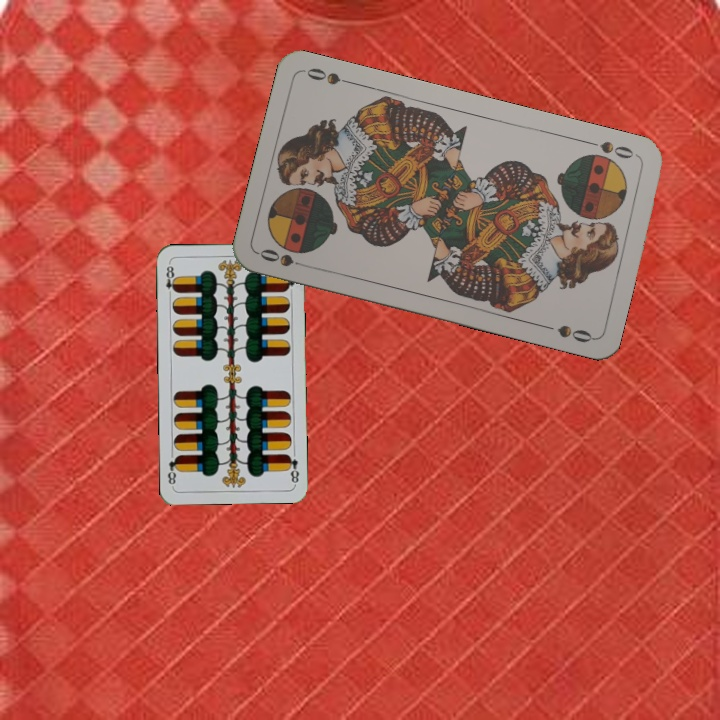E8: (162, 259, 179, 300), (283, 450, 302, 486)
SO: (255, 244, 313, 272), (583, 136, 641, 162)
